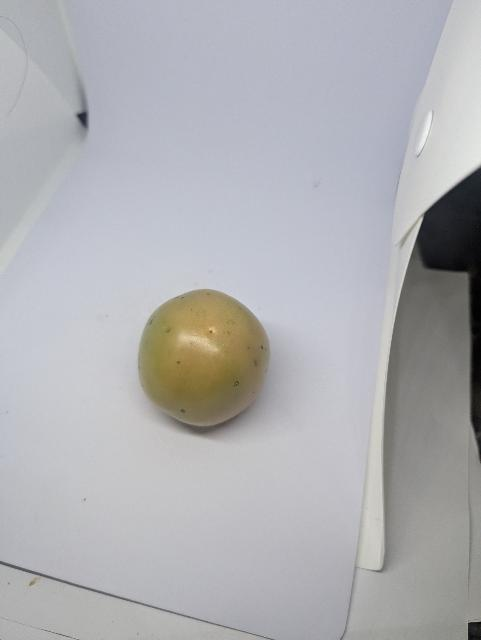breaker: (138, 289, 270, 426)
